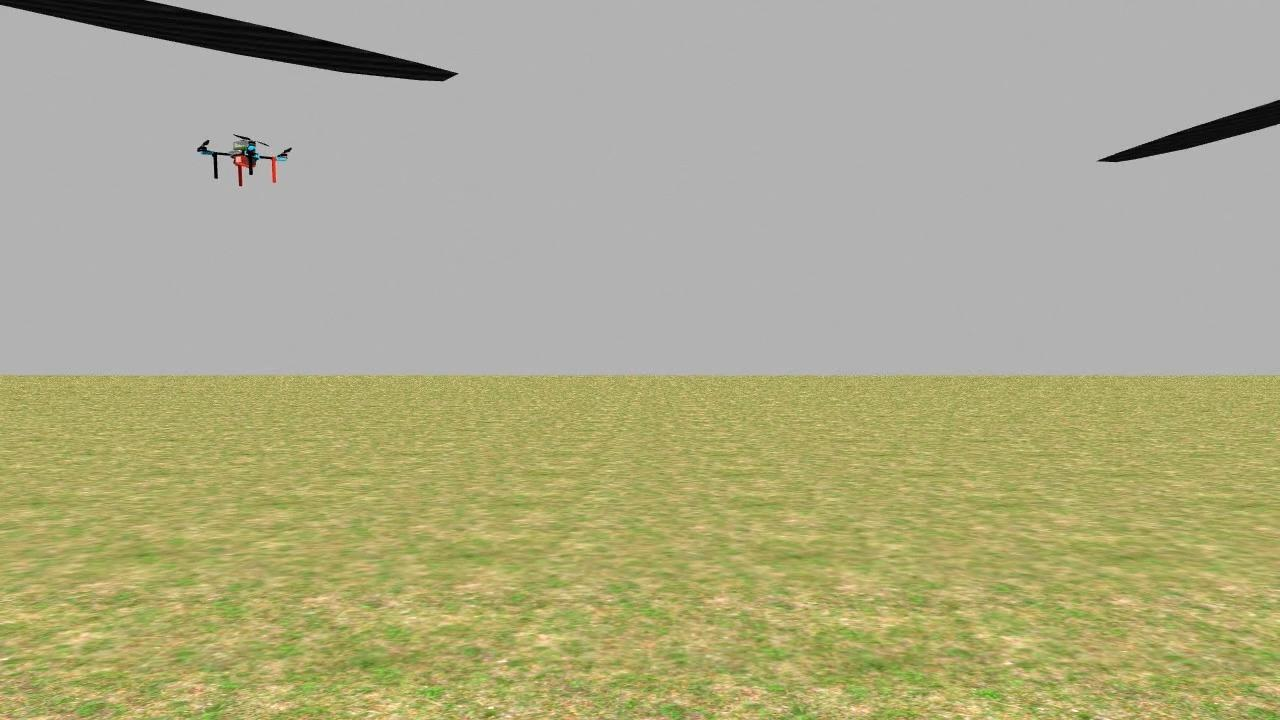UAV: (178, 117, 316, 202)
